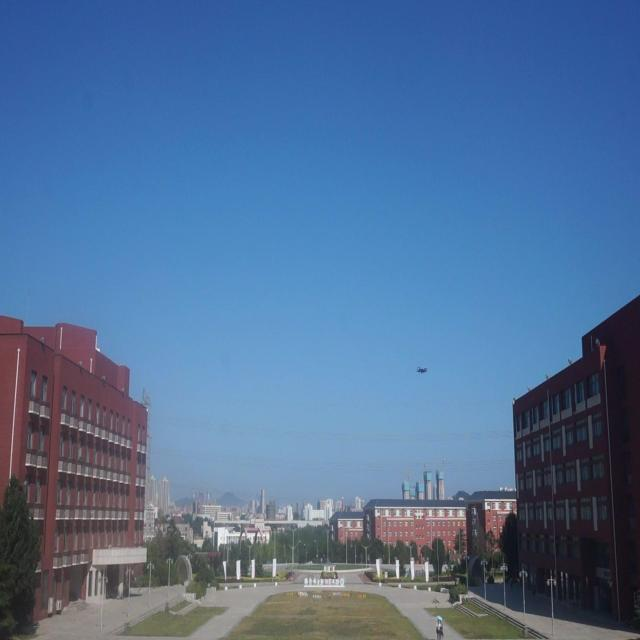drone: (414, 360, 428, 377)
